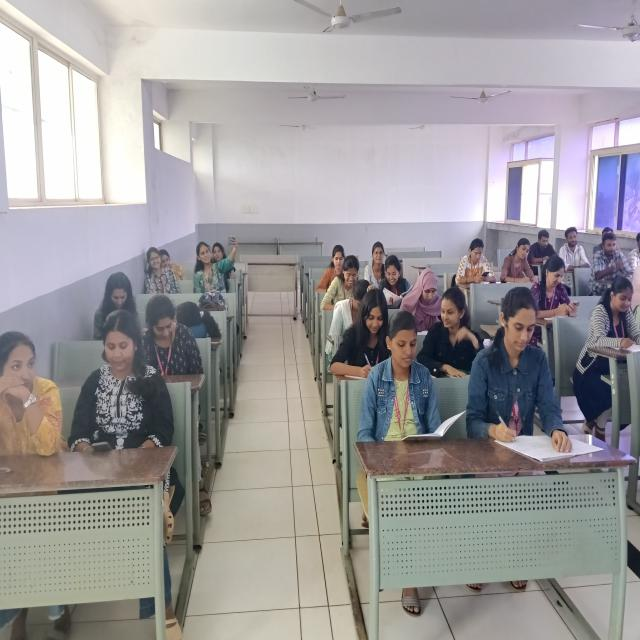Reading: (469, 298, 574, 456), (370, 320, 461, 444), (589, 279, 640, 366), (403, 268, 445, 336), (376, 258, 417, 304)
Sleeping: (171, 292, 234, 348)
Using Phone: (68, 320, 169, 454), (187, 234, 248, 294), (536, 255, 582, 316), (453, 240, 500, 286)
Writing: (336, 296, 403, 382), (499, 237, 540, 284)
